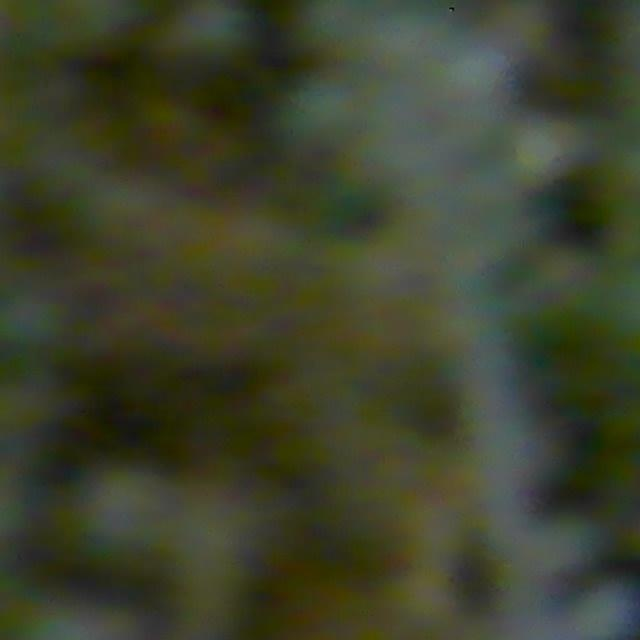SeaGrape: (71, 461, 178, 562), (277, 70, 366, 155), (170, 0, 257, 72)
